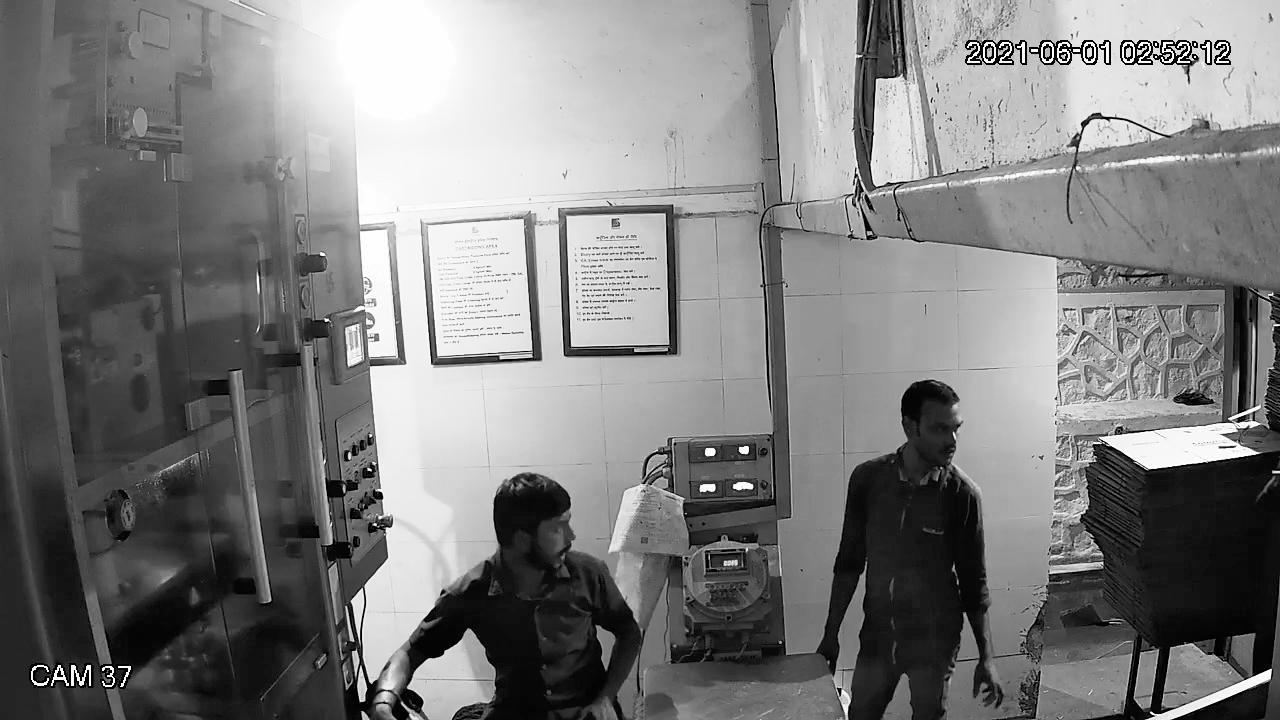Person: (365, 469, 644, 720), (817, 379, 999, 717)
